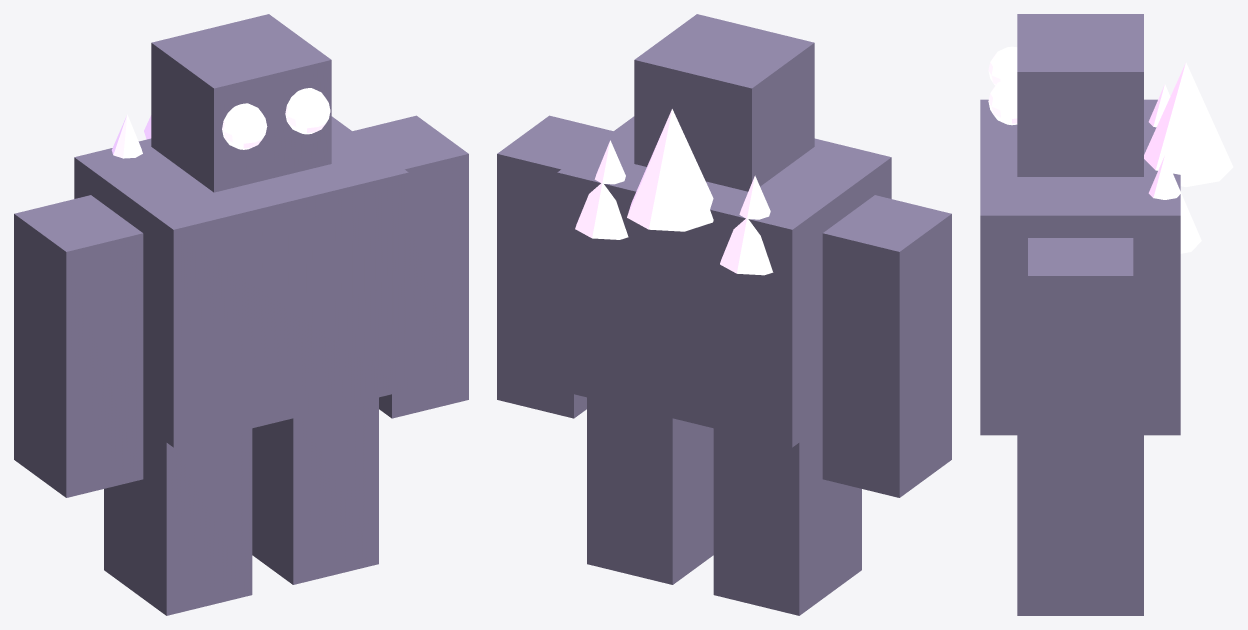
Rendered from creature_golem_crystal.glb.
The picture shows the model from 3 angles, left to right: view 1: azimuth 30°, elevation 25°; view 2: azimuth 150°, elevation 25°; view 3: azimuth 270°, elevation 25°; orthographic projection.
Parts seen in each view (by area): view 1: creature_golem_crystal; view 2: creature_golem_crystal; view 3: creature_golem_crystal.
Boxes of the visible parts, x1,y1,x2,y2 form: creature_golem_crystal: [14, 14, 468, 615]; creature_golem_crystal: [497, 14, 951, 615]; creature_golem_crystal: [980, 14, 1233, 615].
Bounding box in the file's own units: 0.8165 × 1 × 0.4404.
